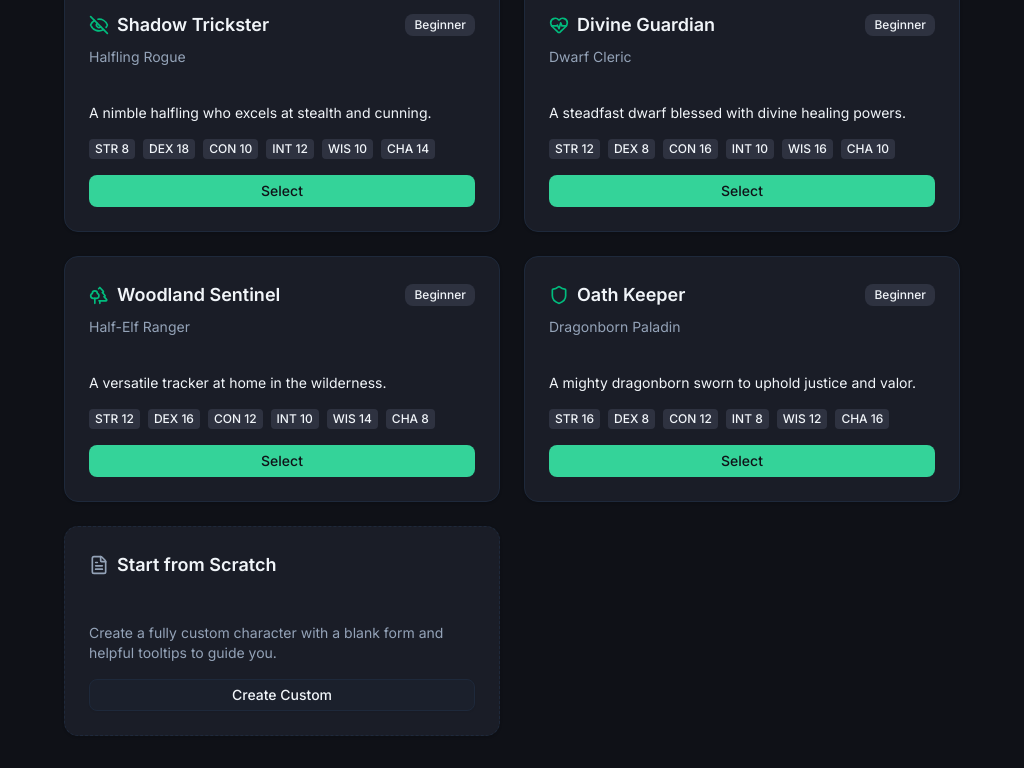
Test: PlayerCharacterPage integration › should transition to empty form when clicking Start from Scratch
(page scrolled)
# Click the "Start from Scratch" card
Click the option "Start from Scratch".
click(282, 631)  # box top-left (64, 526), bottom-right (500, 736)
(page scrolled)
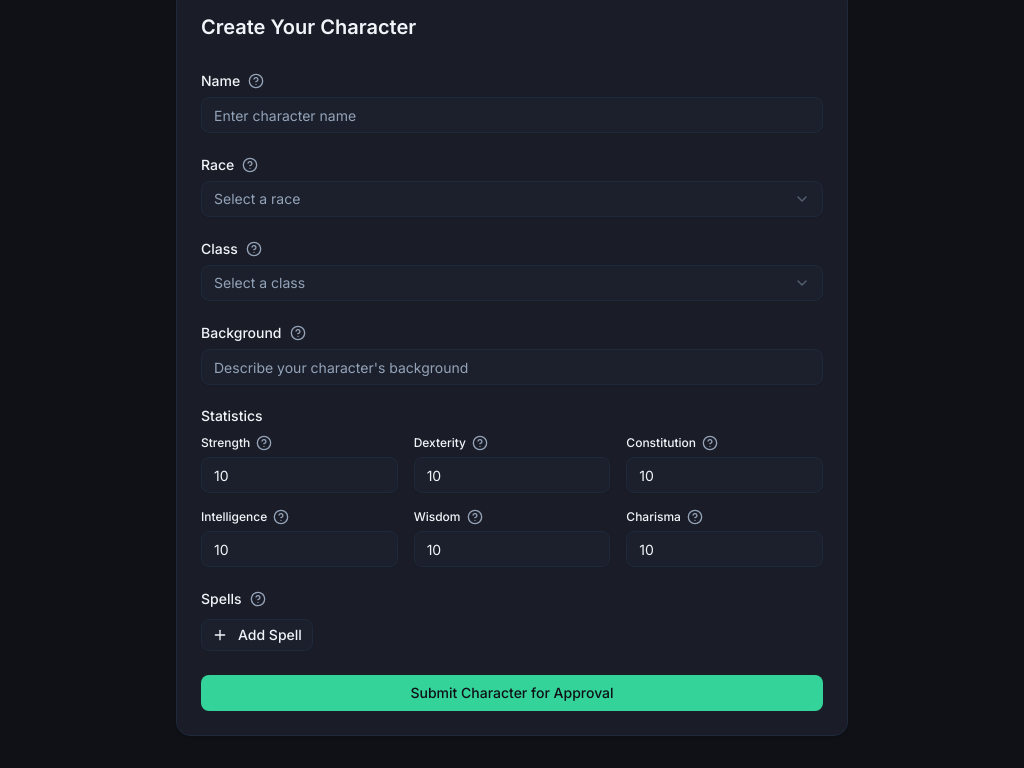
Expected: the text "Create Your Character" is shown, top-left (201, 15), bottom-right (416, 39)
Expected: the field labelled "Name" is empty, top-left (201, 97), bottom-right (823, 133)
Expected: the number field labelled "strength" holds "10", top-left (201, 457), bottom-right (398, 493)
